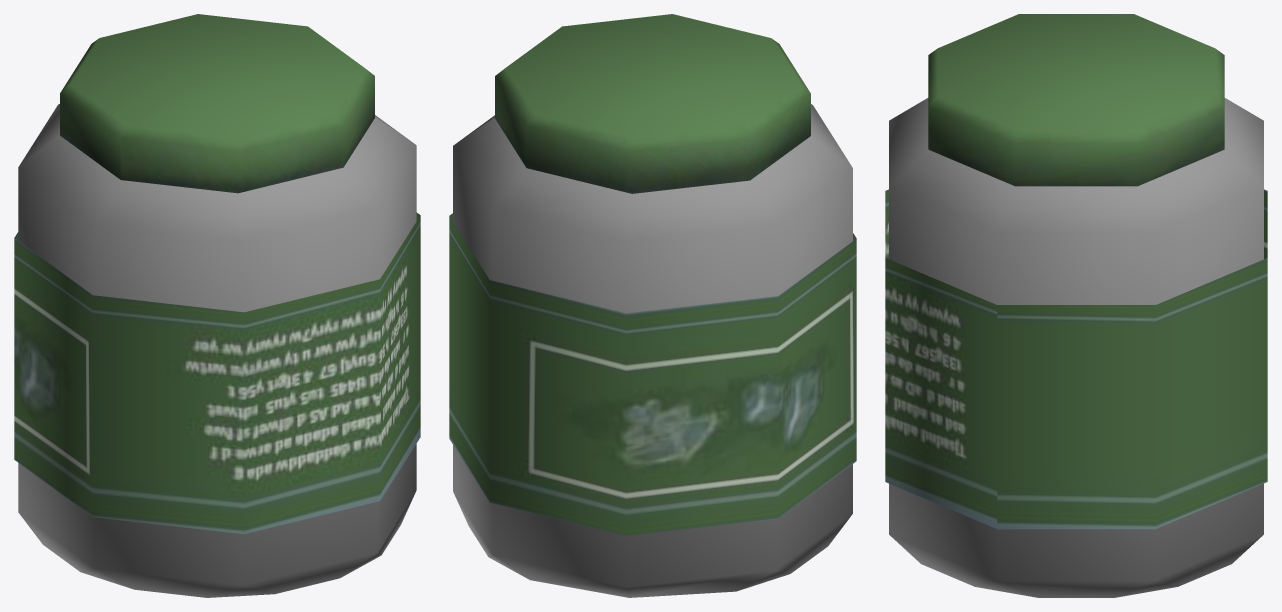
Rendered from Bottle.FBX.
The picture shows the model from 3 angles, left to right: view 1: azimuth 30°, elevation 25°; view 2: azimuth 150°, elevation 25°; view 3: azimuth 270°, elevation 25°; orthographic projection.
Visible parts, largest first — view 1: Cylinder007; view 2: Cylinder007; view 3: Cylinder007.
Boxes of the visible parts, x1,y1,x2,y2 form: Cylinder007: (14,14,420,597); Cylinder007: (449,14,856,597); Cylinder007: (885,14,1267,597).
Bounding box in the file's own units: 22.46 × 29.07 × 22.46.
Materials: 2 (1 with a texture image).
